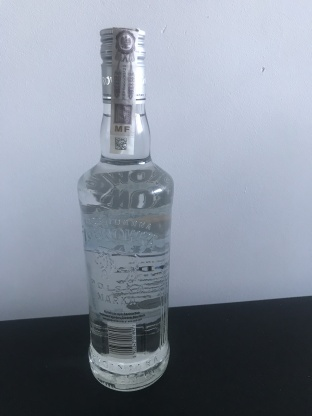nakretka: (97, 22, 149, 107)
